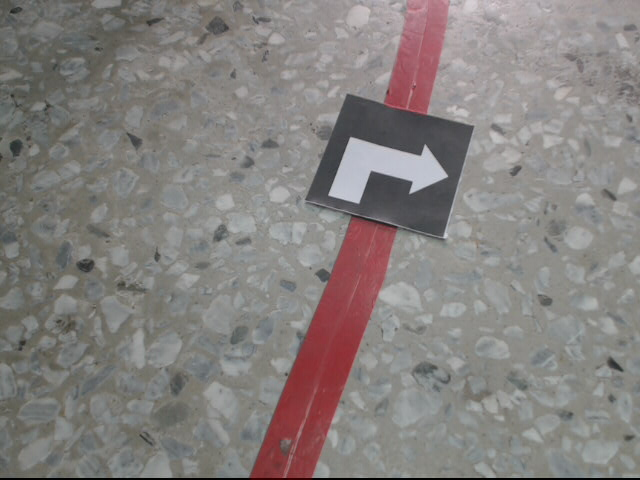right: (307, 95, 477, 240)
